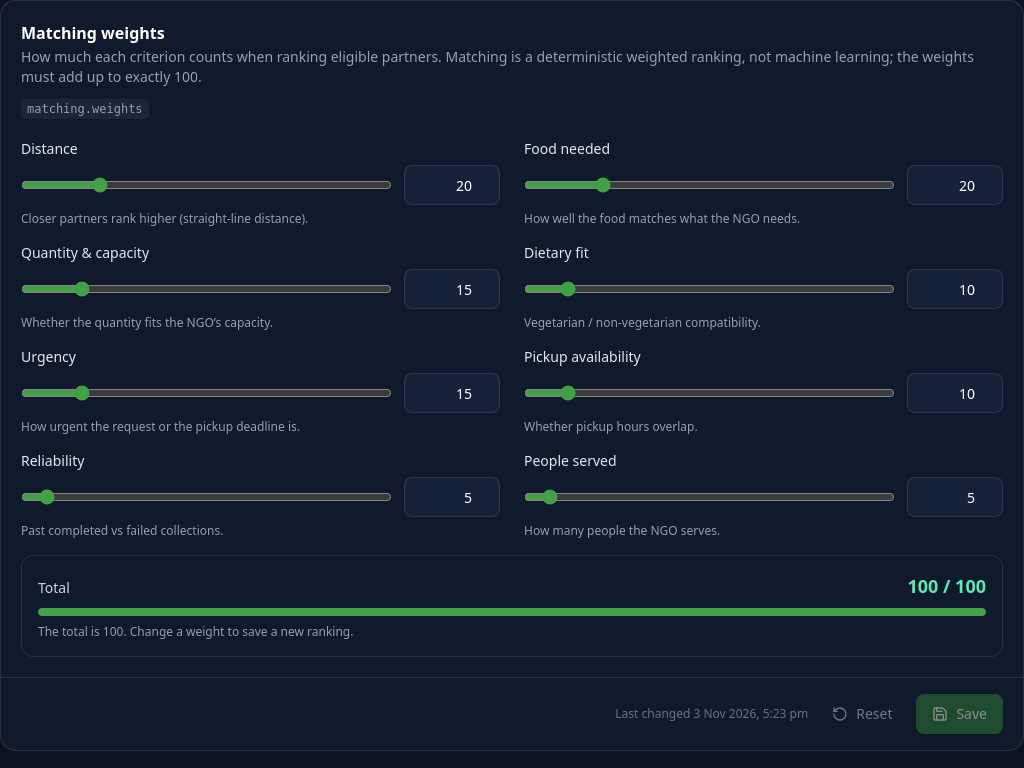
Scenario: MatchingWeightsForm › asks for confirmation, then saves the eight numeric weights
Replace the text in the number field labelled "Distance" with "30": (452, 185) [404, 165, 500, 205]
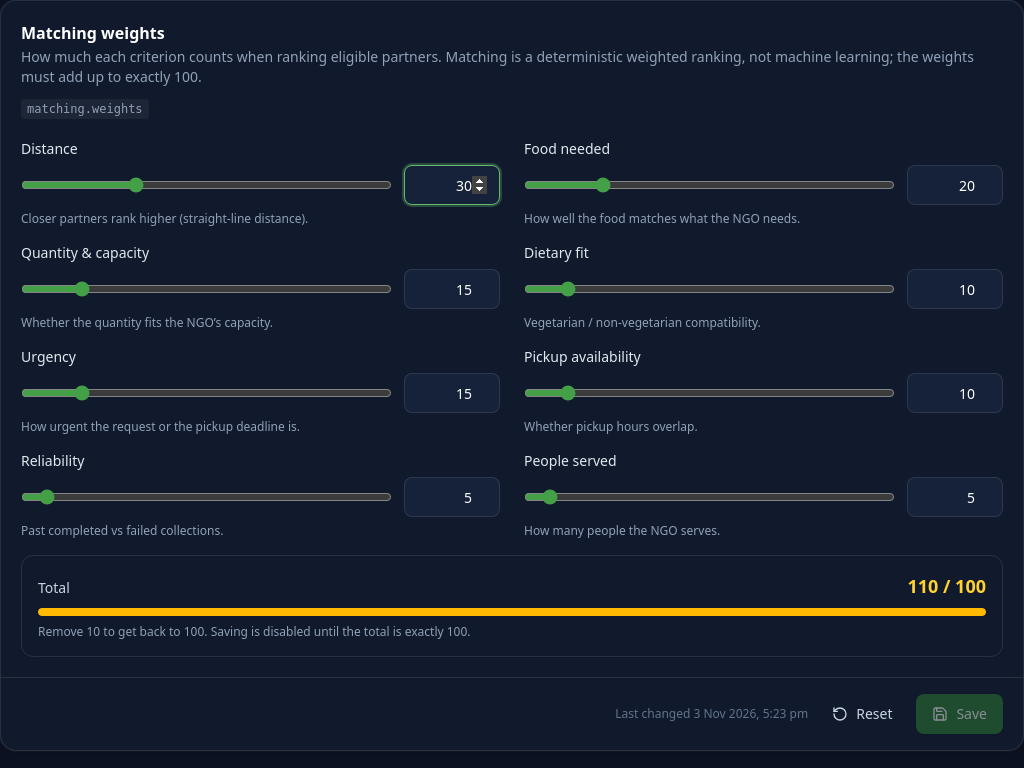
Replace the text in the number field labelled "Food needed" with "10": (955, 185) [907, 165, 1003, 205]
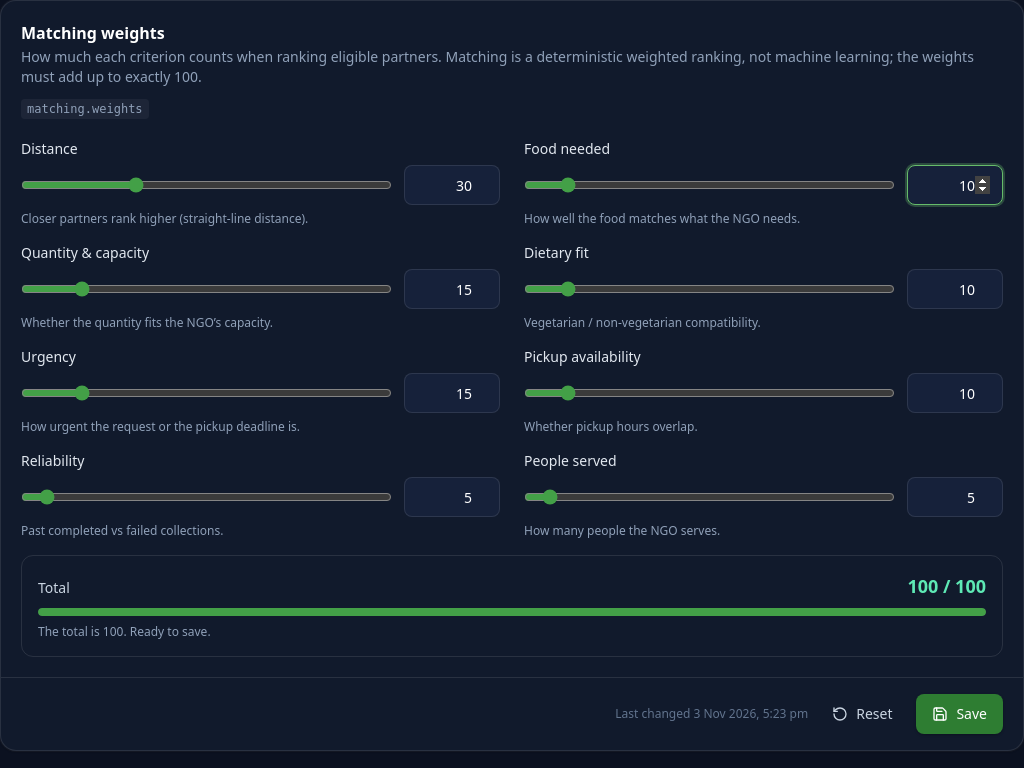
Click the button "Save": (960, 714) [916, 694, 1003, 734]
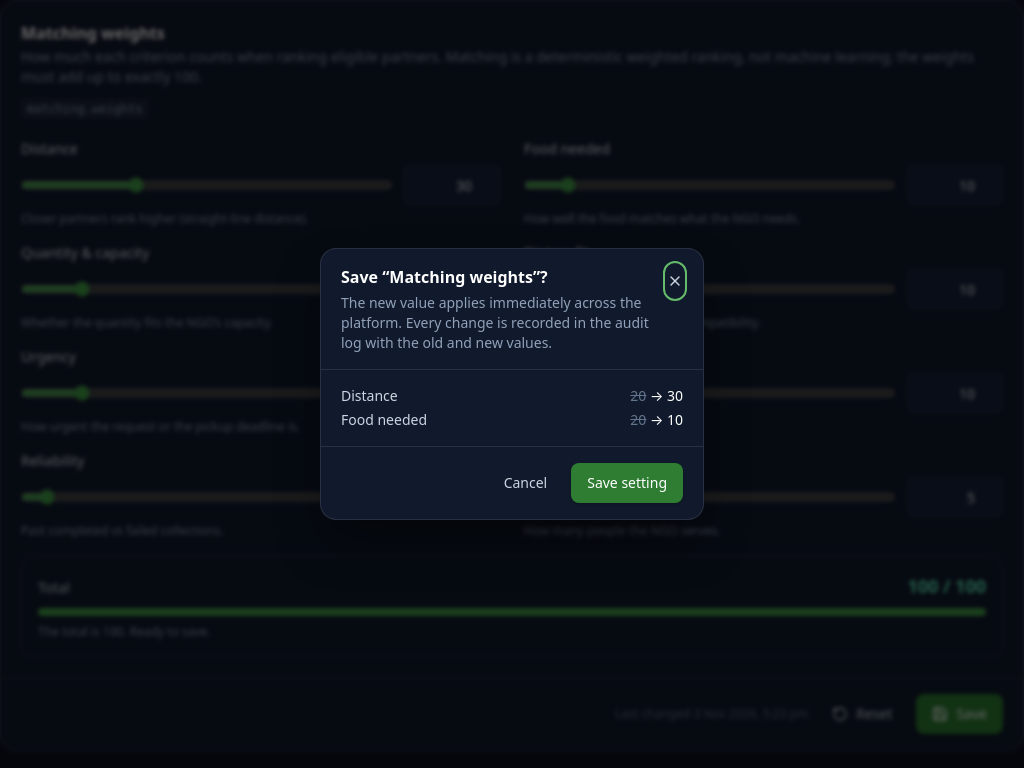
Result: the text "recorded in the audit log" is shown at [341, 293, 649, 352]
Click the button "Save setting": (627, 483) [571, 463, 683, 503]
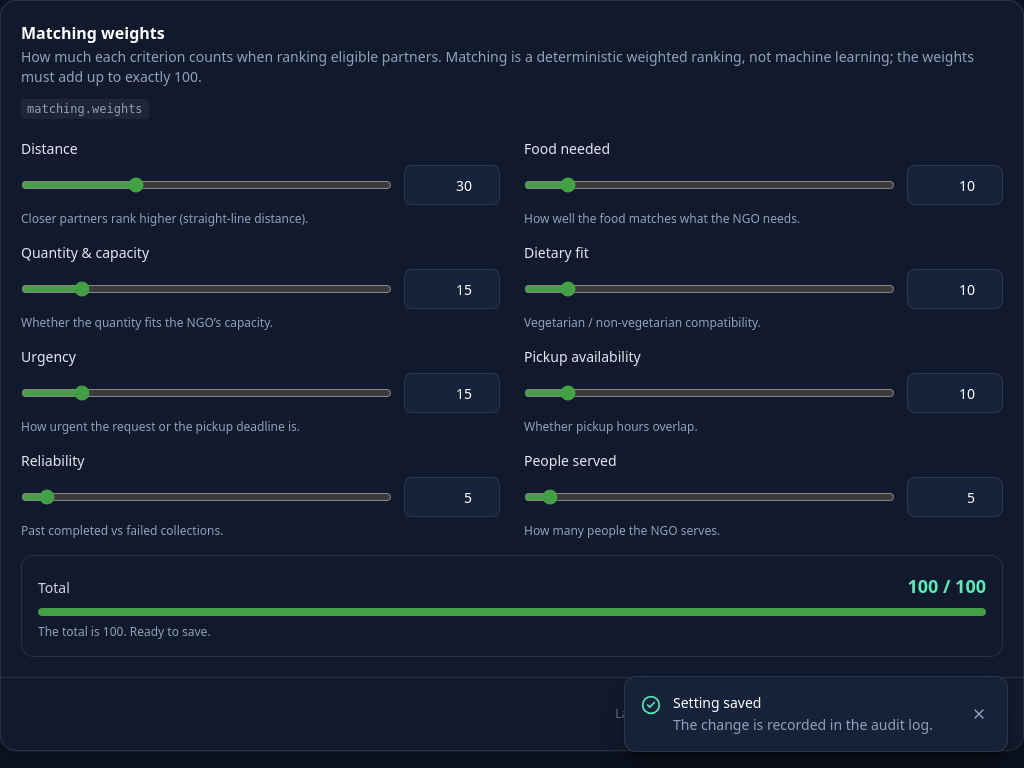
Result: the text "Setting saved" is shown at [673, 693, 761, 712]
